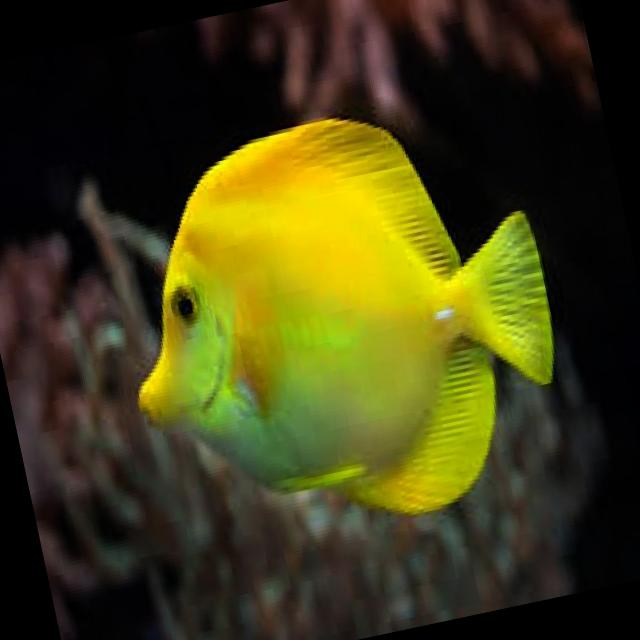TangFish: (81, 81, 588, 570)
